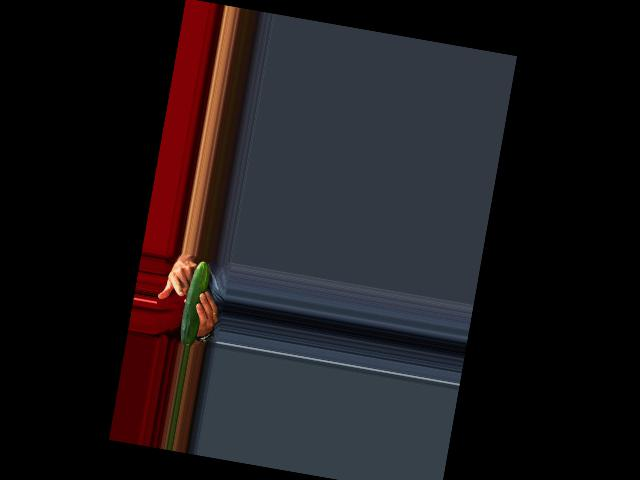cucumber: (177, 259, 212, 347)
